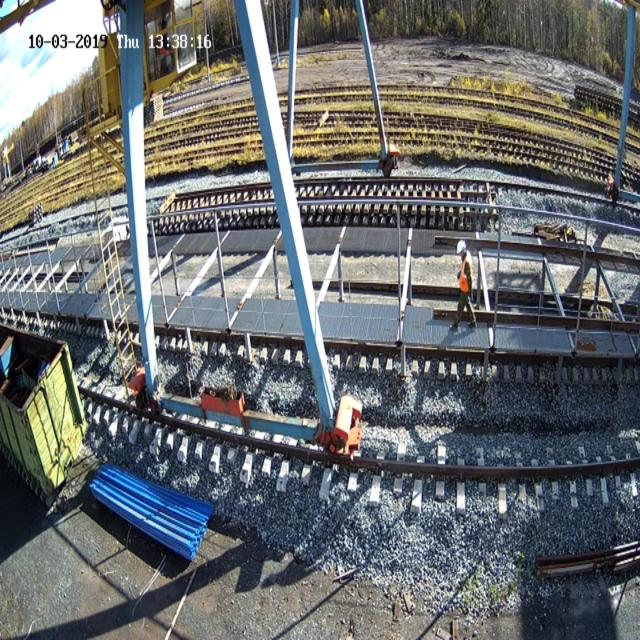Helmet: (456, 240, 466, 254)
Person: (450, 239, 477, 329)
